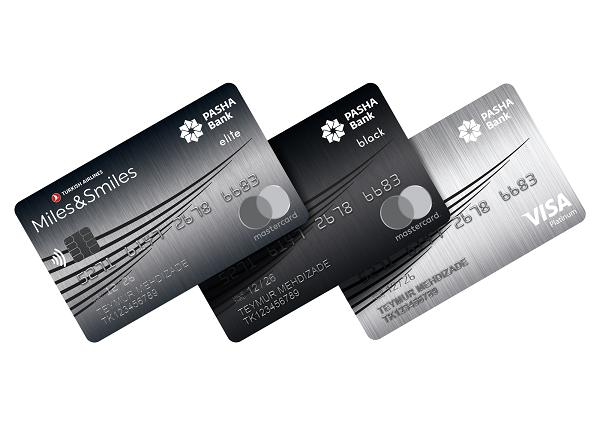Pasha Bank: (178, 116, 205, 144), (320, 118, 345, 145), (456, 119, 482, 144)
